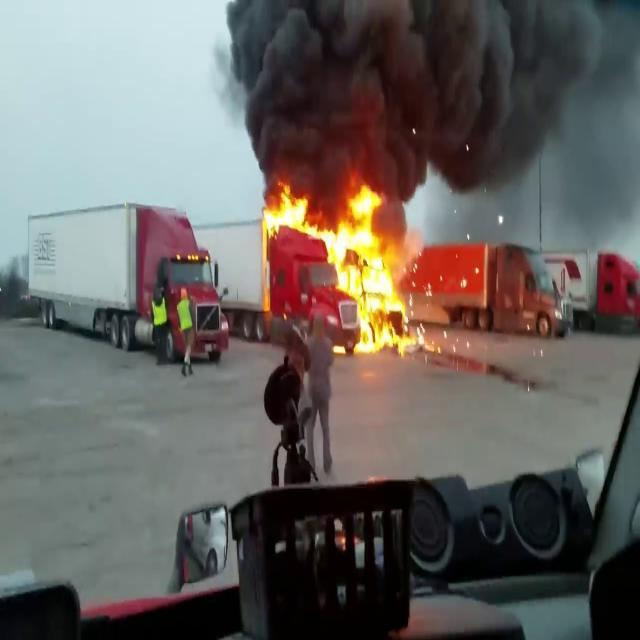Fire: (326, 184, 416, 352), (262, 178, 326, 244)
Smoke: (215, 0, 635, 206)
